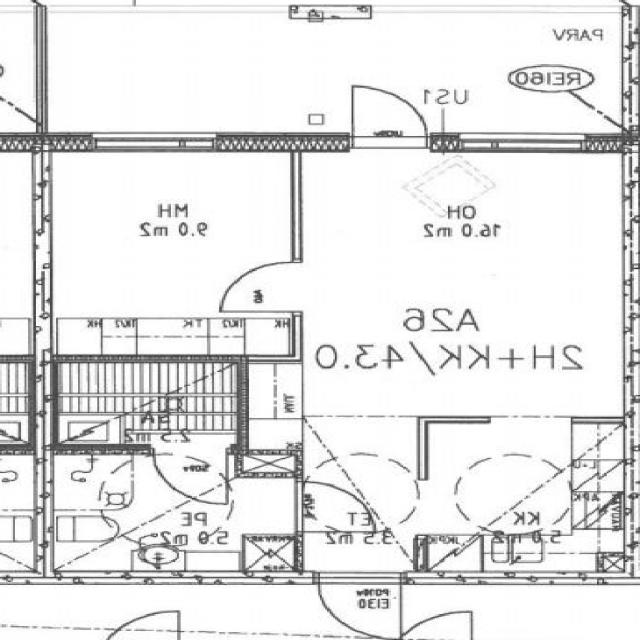door: (320, 571, 402, 640), (352, 85, 428, 148), (153, 448, 228, 505), (296, 482, 376, 532), (222, 263, 303, 312)
